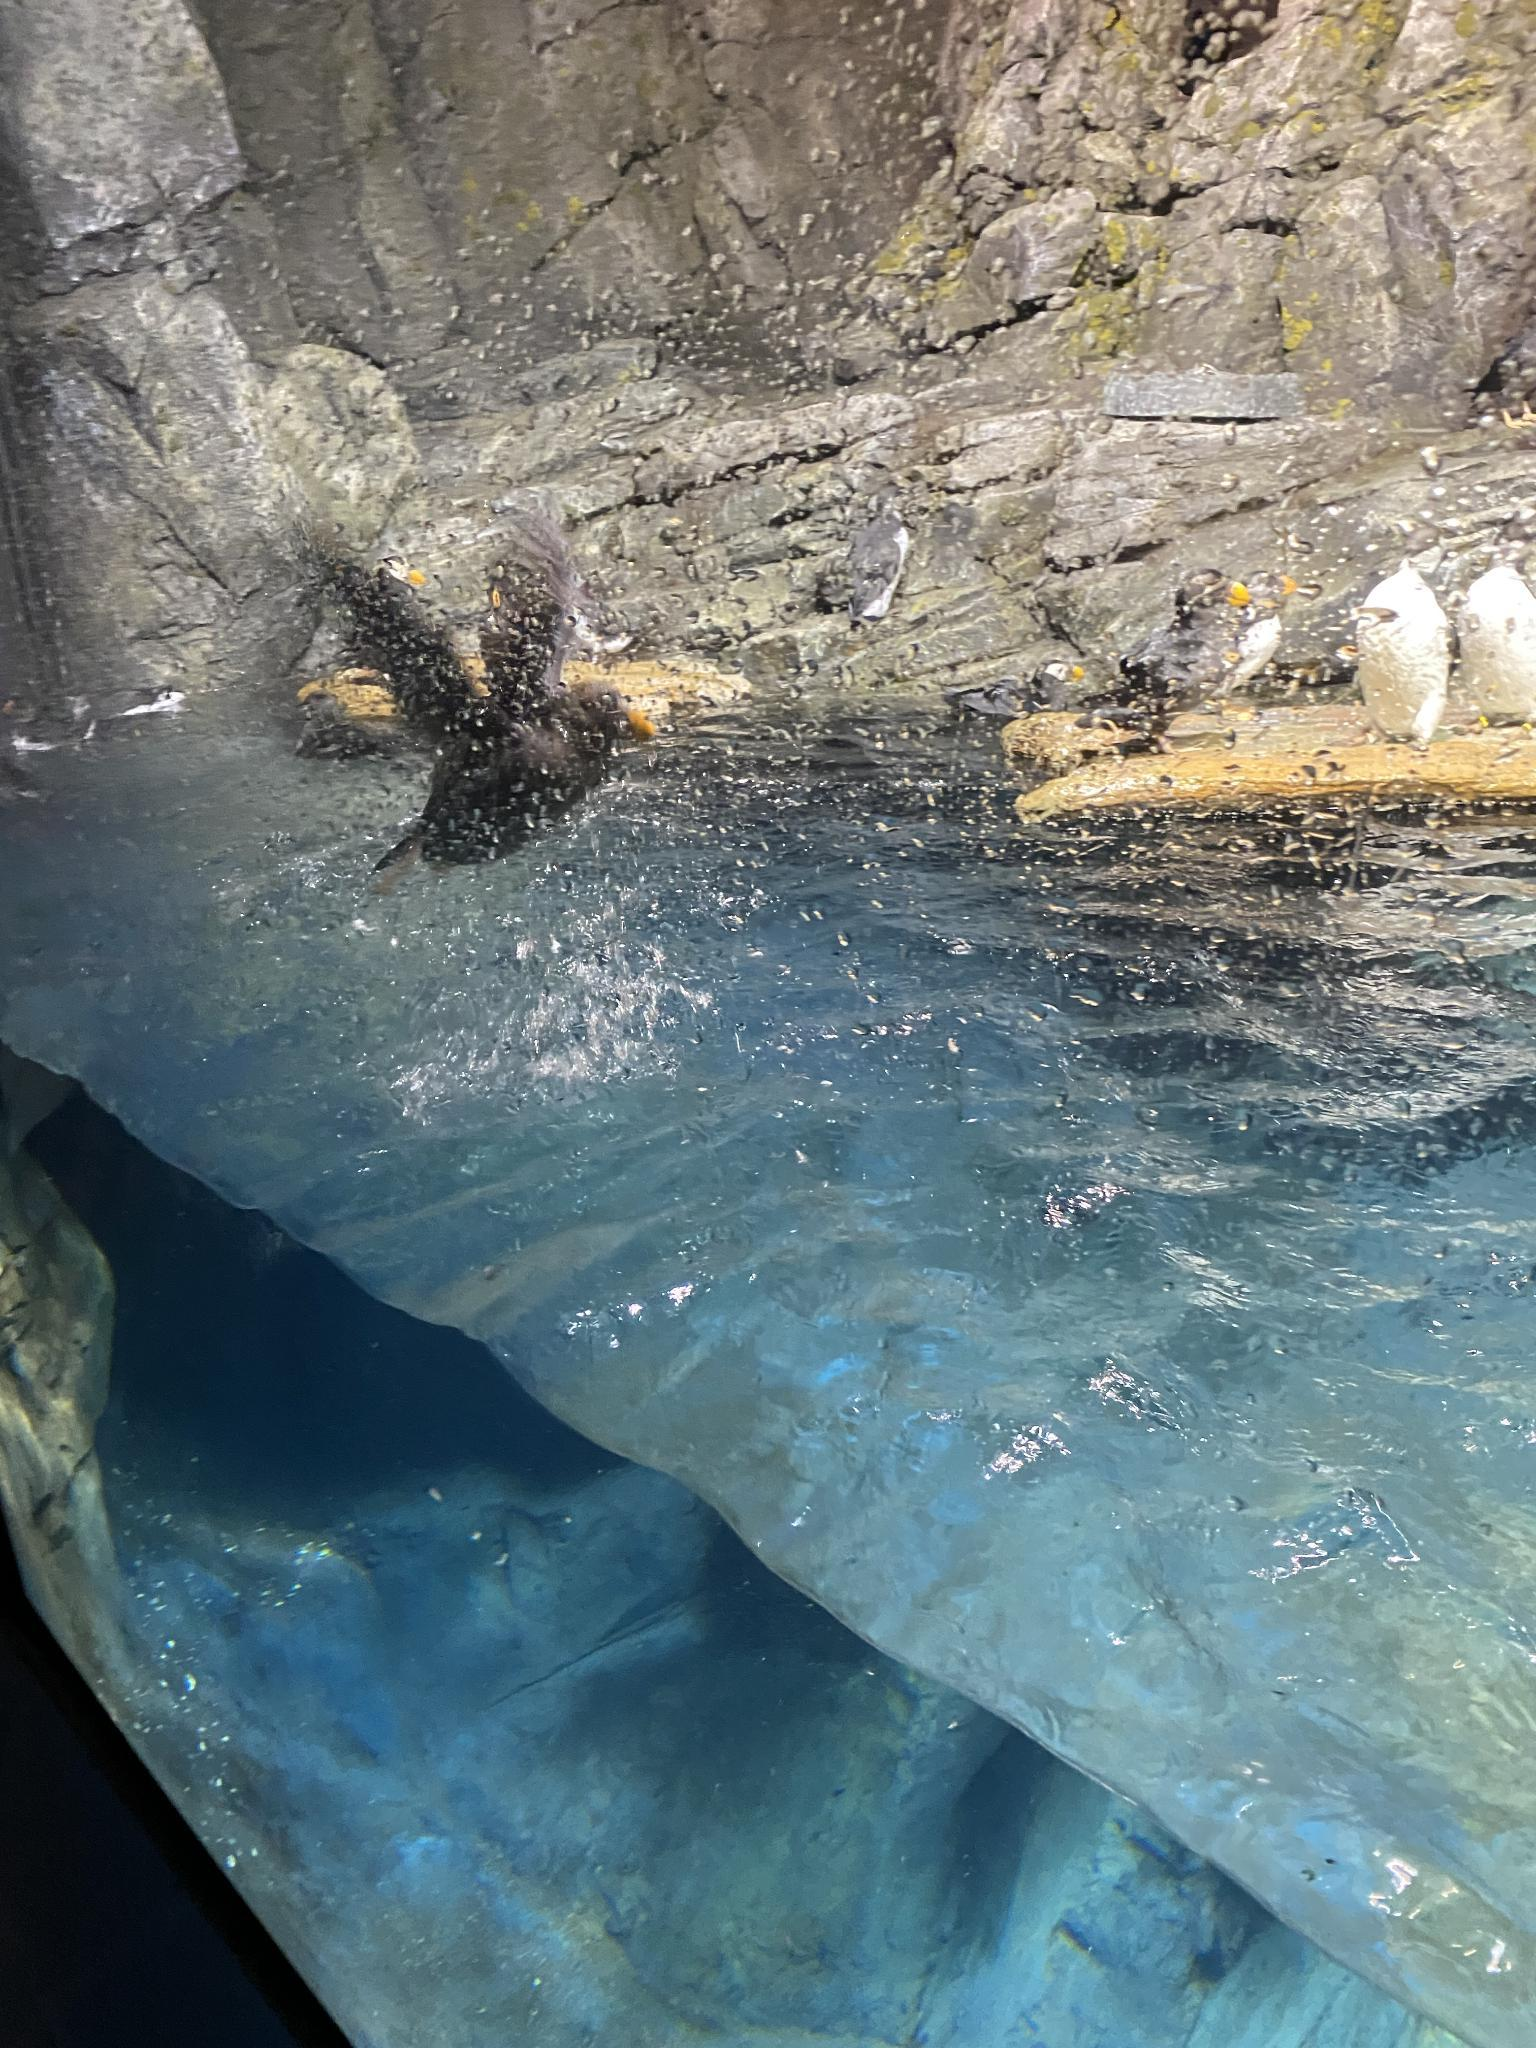puffin: (337, 548, 660, 889), (1129, 572, 1267, 776), (1199, 556, 1309, 719), (963, 645, 1105, 758), (829, 502, 921, 627)
